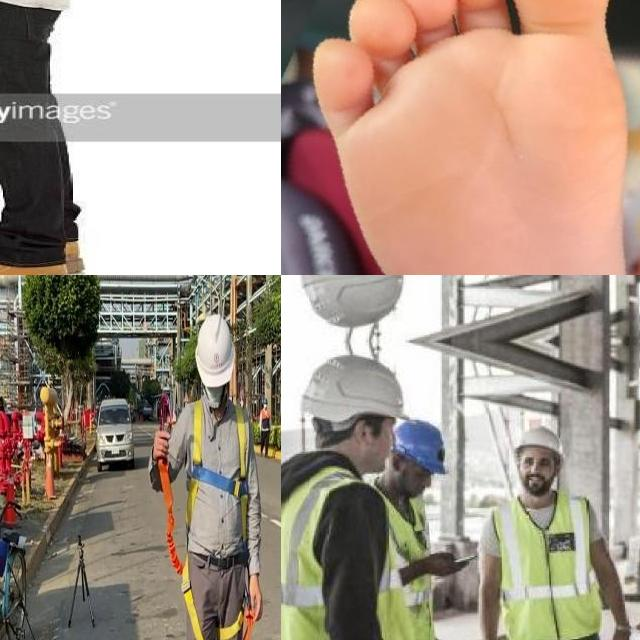Barefoots: (304, 0, 640, 275)
Harness: (188, 400, 250, 546), (158, 461, 208, 640), (216, 610, 255, 640)
face_nomask: (518, 452, 554, 491)
hand_noglove: (425, 546, 471, 582), (606, 627, 636, 640)
head_nohelmet: (299, 349, 413, 434), (392, 415, 450, 477), (513, 424, 567, 458)
person: (281, 346, 425, 640), (464, 427, 632, 640), (0, 0, 84, 275)
vest: (281, 466, 418, 640), (490, 493, 603, 640)
